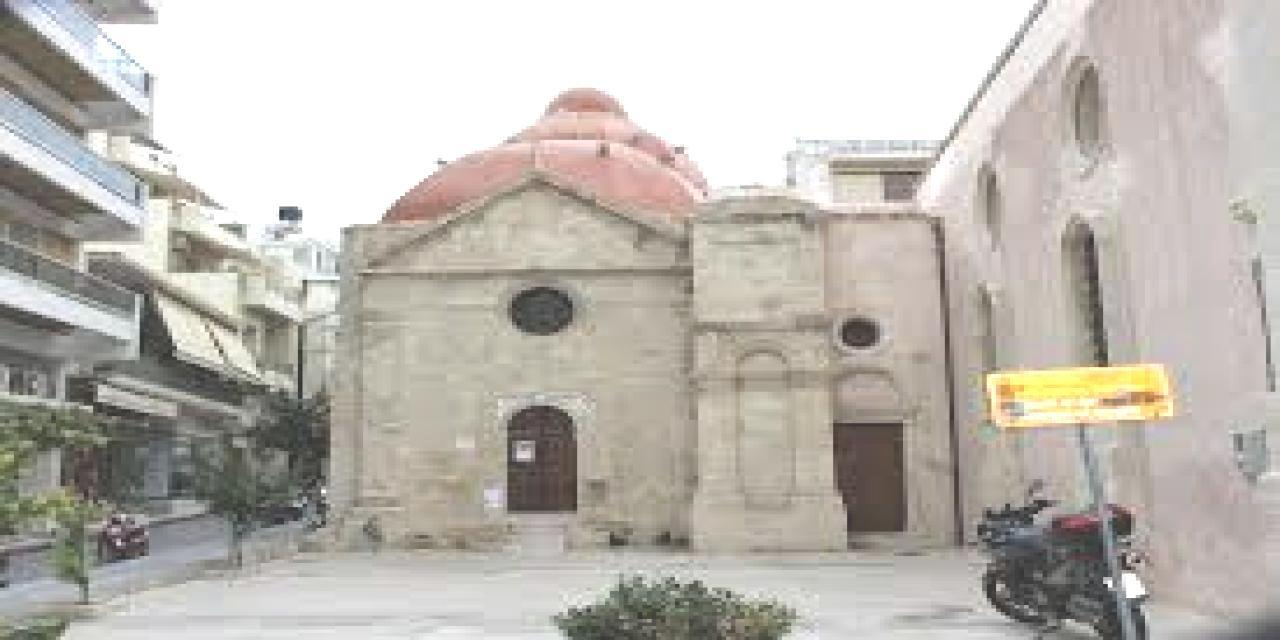Agia Aikaterini: (341, 9, 1279, 620)
